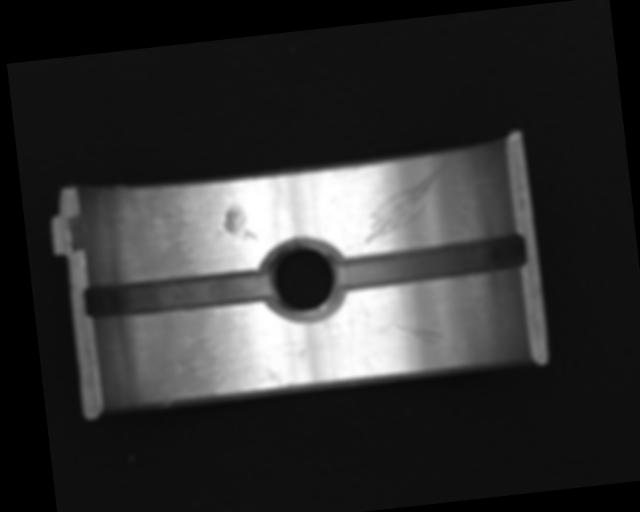bruise: (221, 205, 257, 244)
gap: (333, 233, 527, 291), (84, 267, 274, 321)
hole: (261, 238, 343, 323)
nick: (356, 159, 450, 243), (382, 314, 443, 350)
